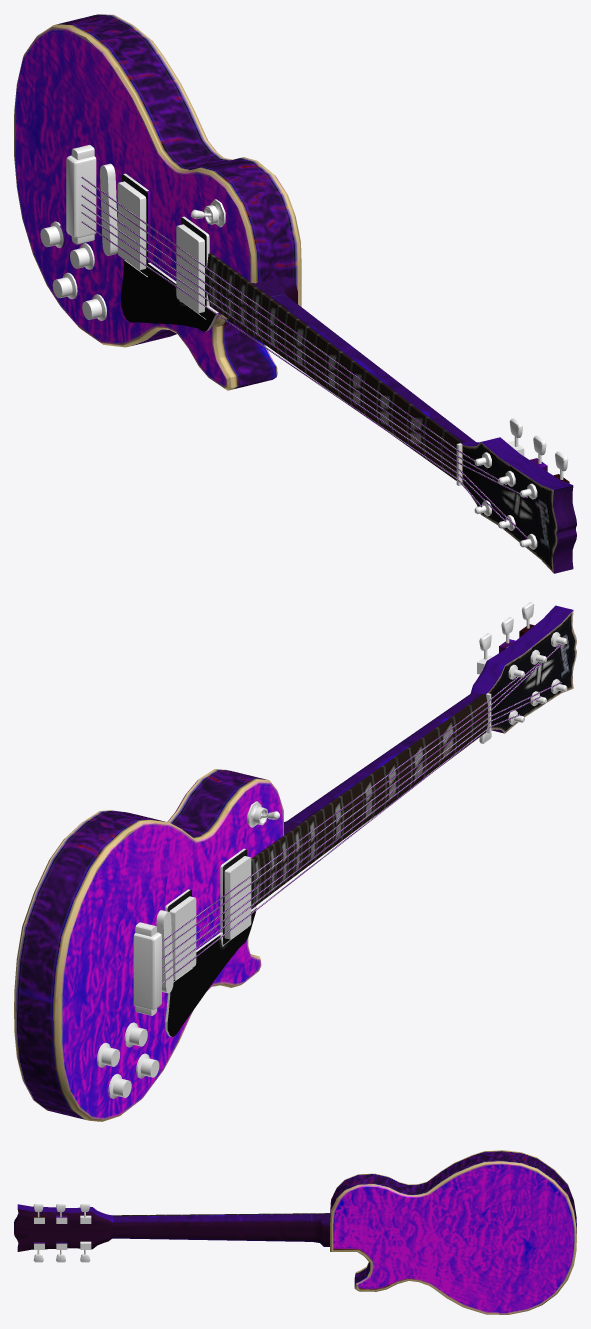
3 views of the same model, one above another, from view 1: azimuth 30°, elevation 25°; view 2: azimuth 150°, elevation 25°; view 3: azimuth 270°, elevation 25° (orthographic). The views are drawn at different scales.
Parts seen in each view (by area): view 1: Line002; view 2: Line002; view 3: Line002.
Boxes of the visible parts, left/top/right/bottom form: Line002: left=14, top=14, right=576, bottom=573; Line002: left=14, top=602, right=576, bottom=1121; Line002: left=14, top=1150, right=576, bottom=1314.
Bounding box in the file's own units: 30.99 × 113 × 377.
1 material, 1 textured.
